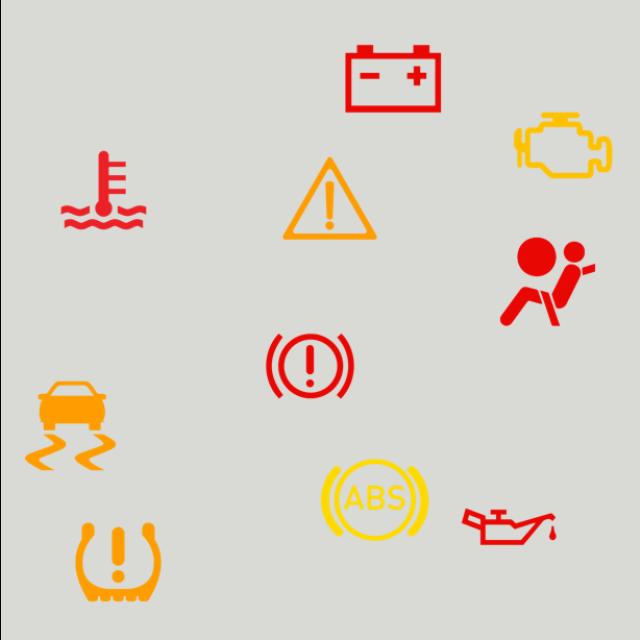Anti Lock Braking System: (314, 441, 432, 559)
Braking System Issue: (250, 308, 368, 426)
Charging System Issue: (334, 19, 452, 138)
Check Engine: (504, 86, 622, 205)
Electronic Stability Problem -ESP-: (10, 367, 128, 485)
Engine Overheating Warning Light: (44, 131, 162, 249)
Low Engine Oil Warning Light: (449, 468, 567, 586)
Low Tire Pressure Warning Light: (58, 504, 176, 622)
Master warning light: (270, 140, 388, 258)
SRS-Airbag: (488, 223, 606, 341)
